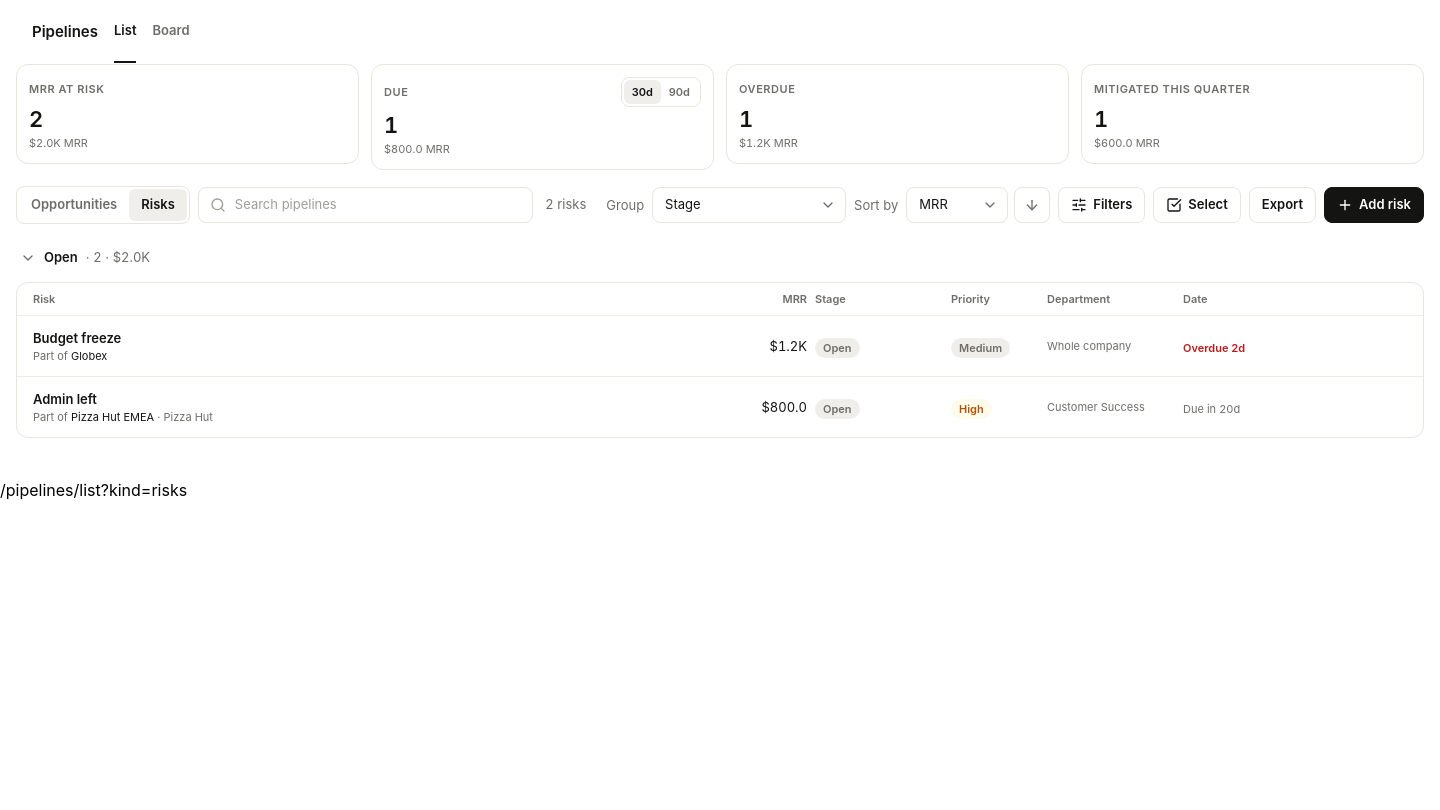
Scenario: Pipelines list › adds a risk on an account through the account's own route
Expected: the button "Admin left" is shown, [33,389,719,409]
Click the button "Add risk" at point(1374, 205), box [1324,187,1424,223]
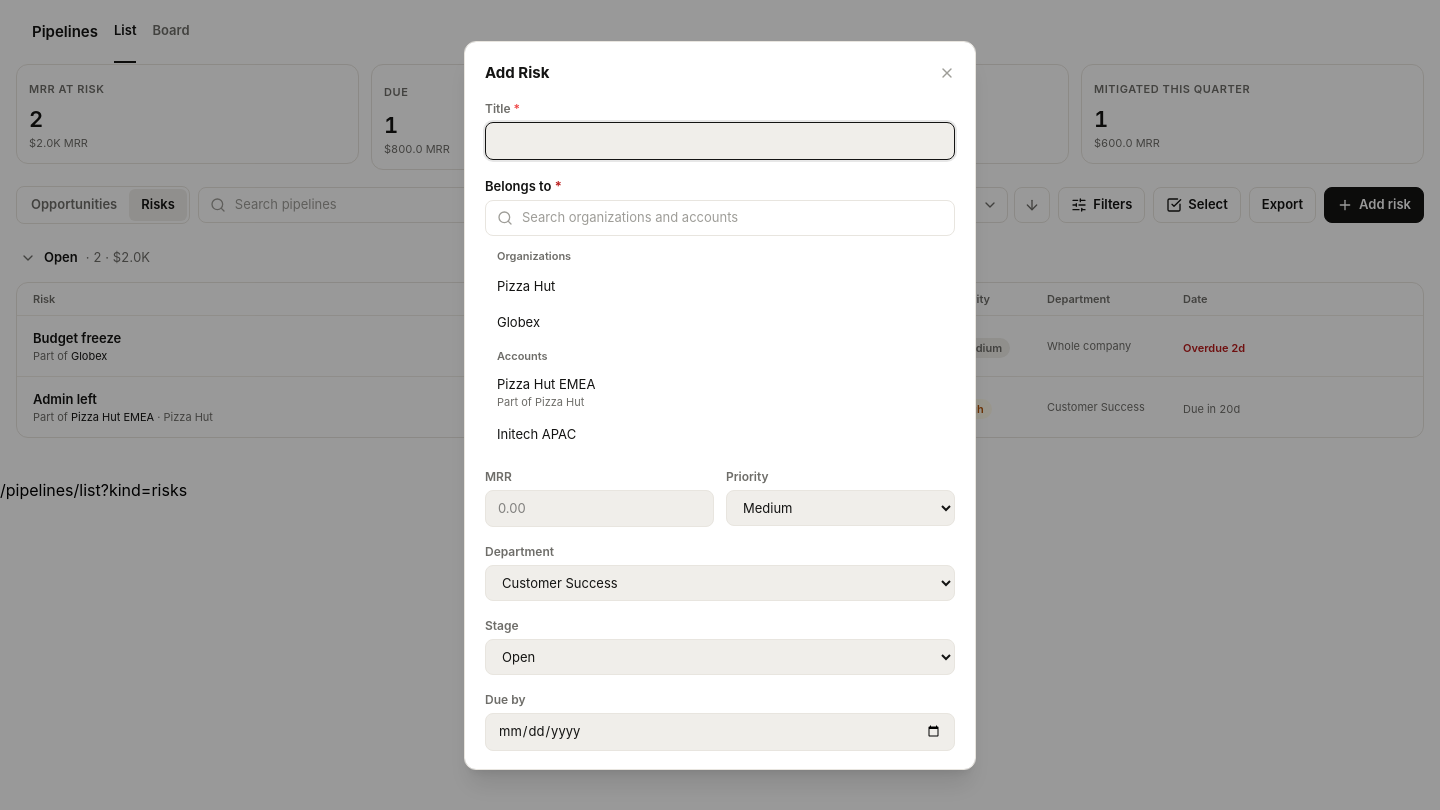
Expected: the heading "Add Risk" is shown, [485,62,549,84]
Type "Seat cut" into the field labelled "Title *" at point(720, 141), box [485,122,955,160]
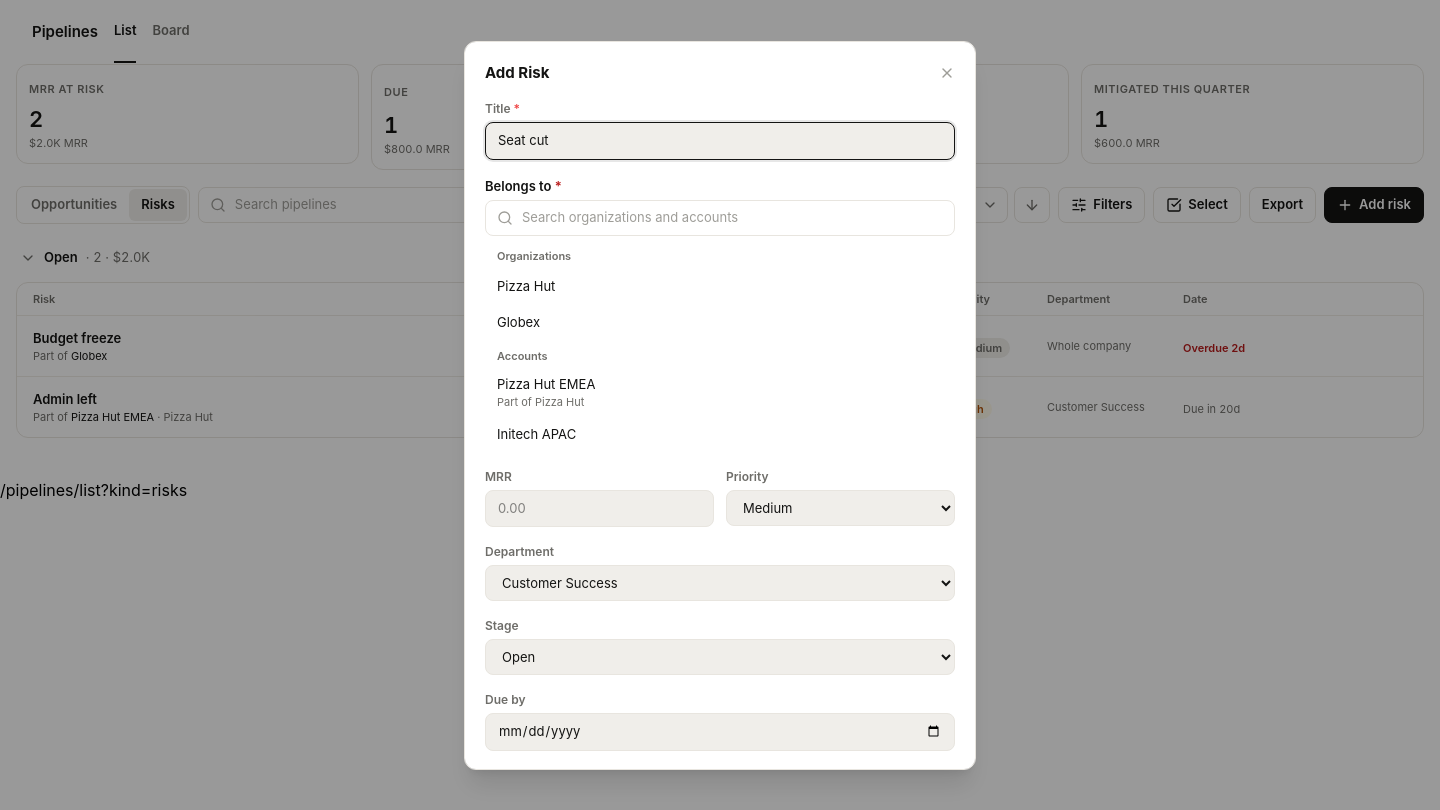
Type "emea" into the search field labelled "Belongs to" at point(720, 218), box [485,200,955,236]
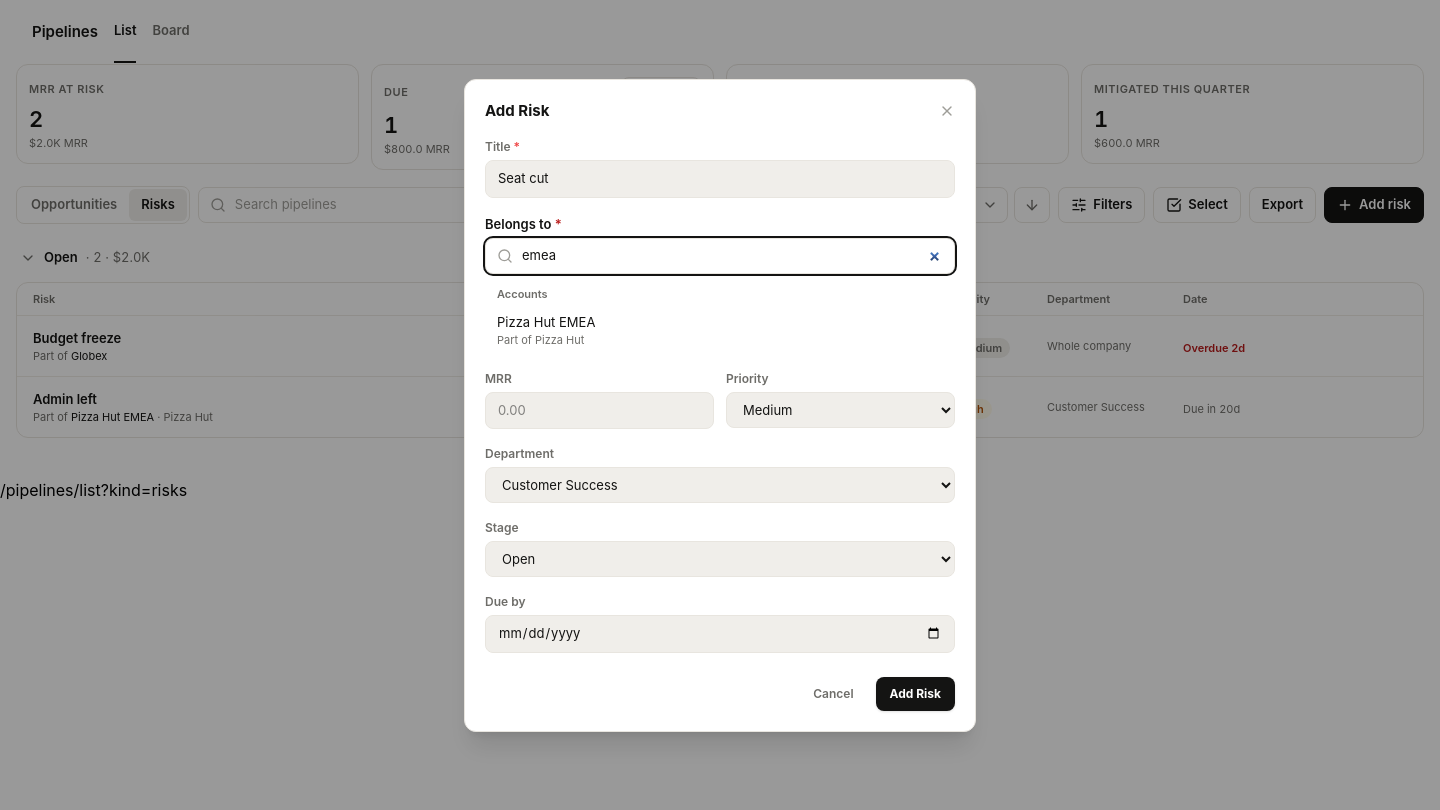
Click the button "Pizza Hut EMEA Part of Pizza Hut" at point(546, 322), box [485,306,955,354]
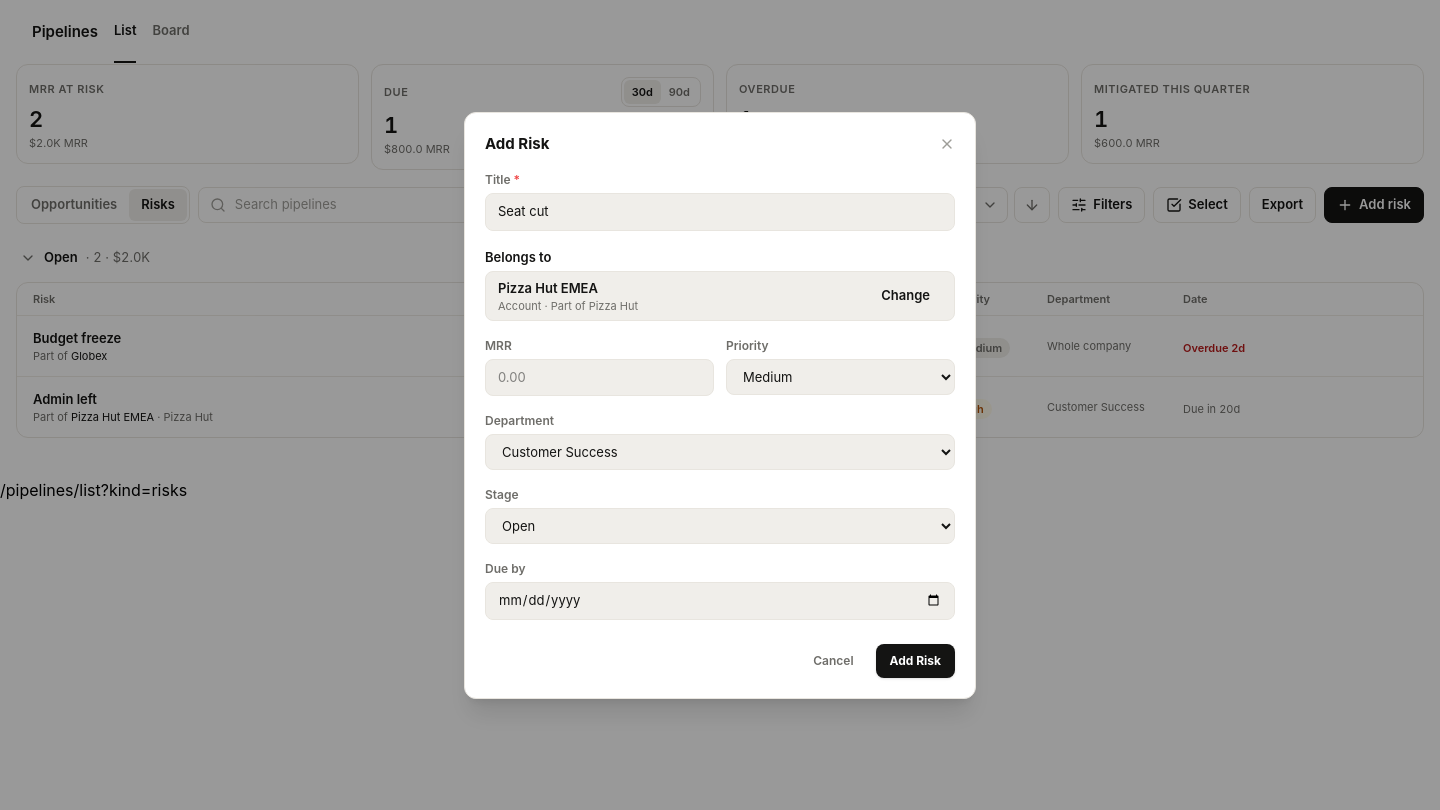
Expected: the text "Account · Part of Pizza Hut" is shown, [498,298,638,314]
Click the button "Add Risk" at point(915, 660), box [876,644,955,678]
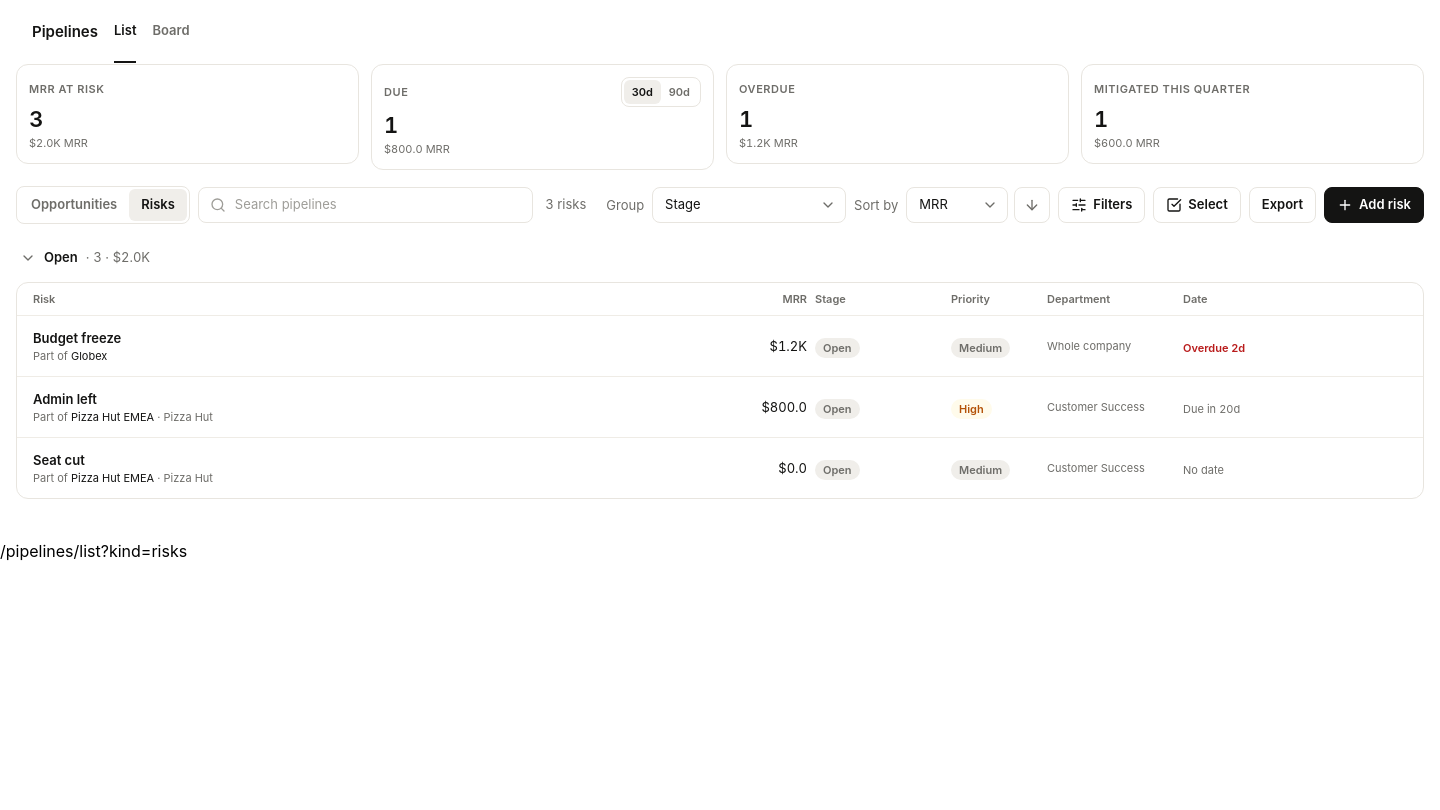
Expected: the button "Seat cut" is shown, [33,450,719,470]
